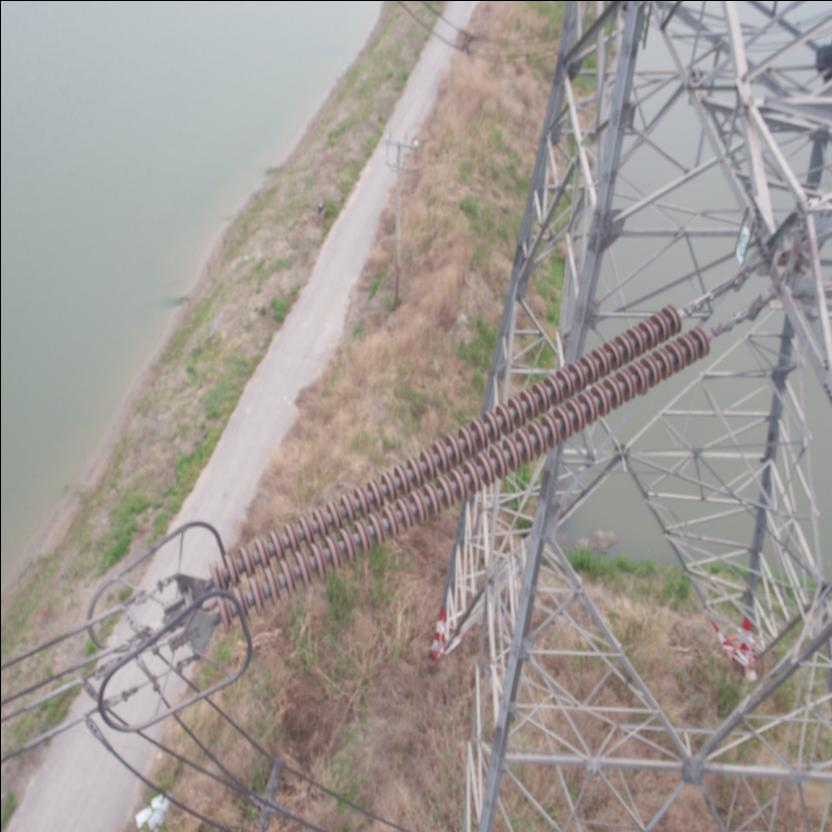insulator: (204, 289, 724, 632)
